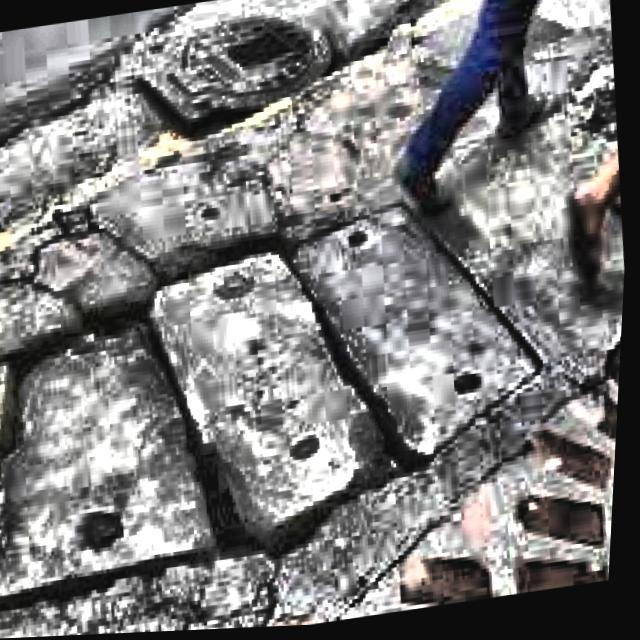Open Manhole: (1, 254, 523, 589)
